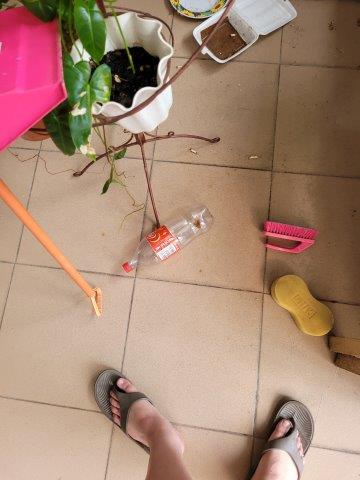botolplastik: (123, 207, 214, 271)
